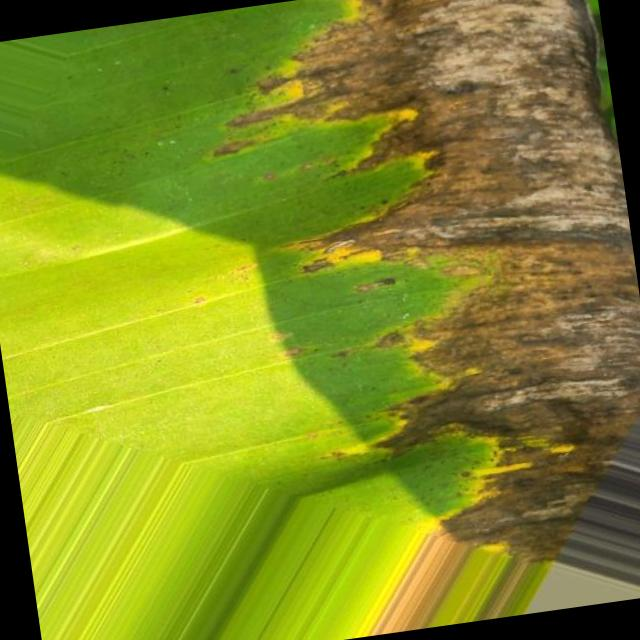Banana_Black_Sigatoka: (251, 0, 640, 551)
